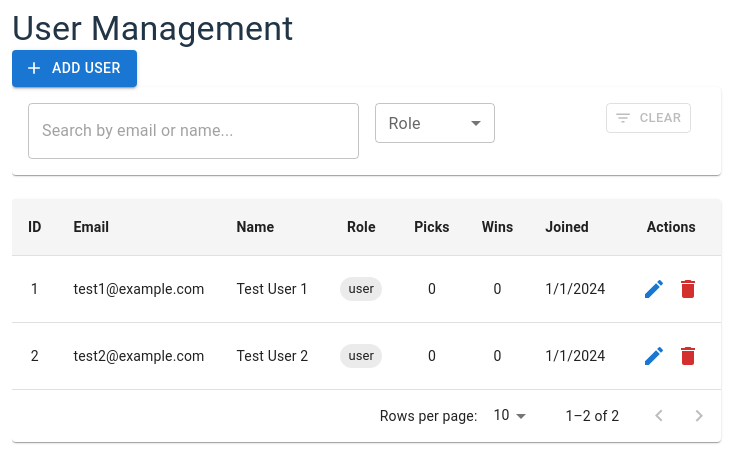
Test: AdminUsersPage (Integration) › should show empty state when search returns no results
Expected: the table is shown, [12,199,721,390]
Expected: the text "test1@example.com" is shown, [58,256,220,323]
Type "nonexistent@example.com" into the field with placeholder "Search by email or name...". click: (193, 131)
box: [28,103,359,159]
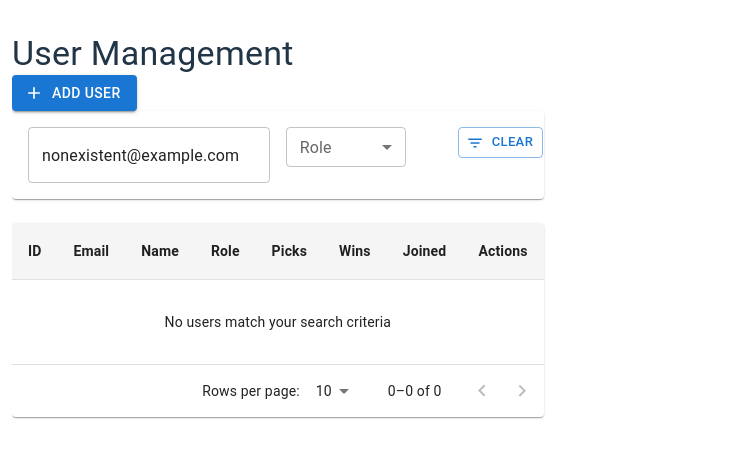
Result: the text "No users match your search criteria" is shown at [164,314,391,330]
Result: the text "test1@example.com" is gone
Result: the text "test2@example.com" is gone
